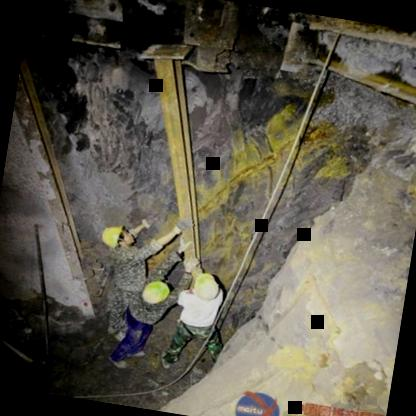helmet: (95, 220, 139, 254), (188, 268, 226, 305), (135, 276, 172, 312)
